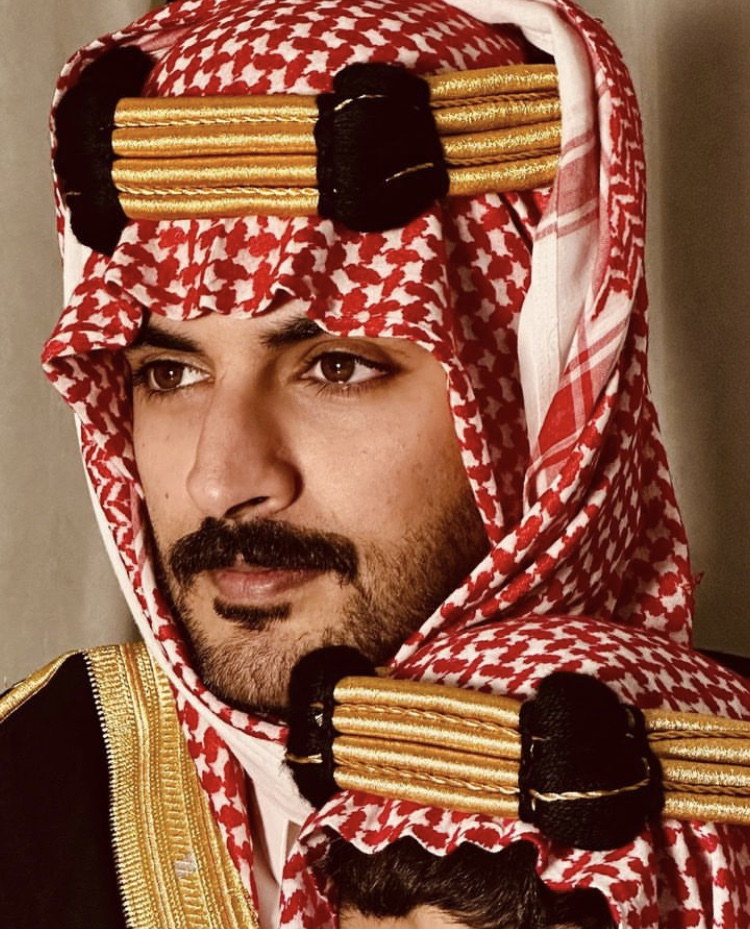Saudi_Founding_Day: (1, 2, 750, 929), (274, 604, 750, 928)
